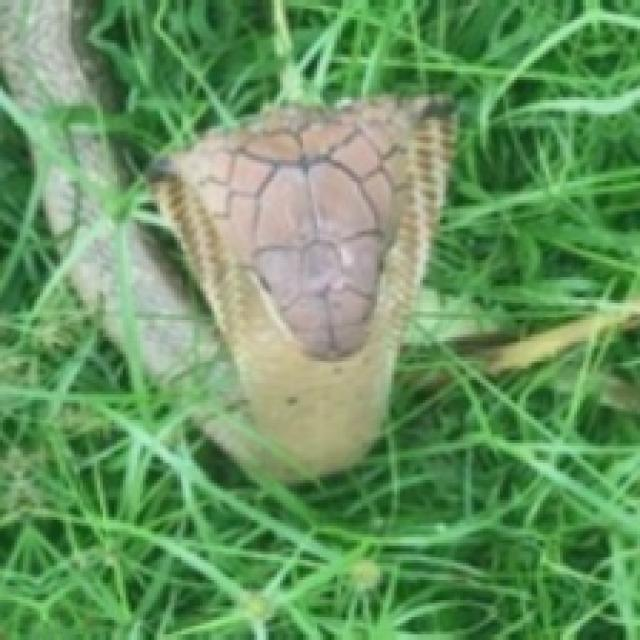king cobra: (149, 97, 451, 480)
